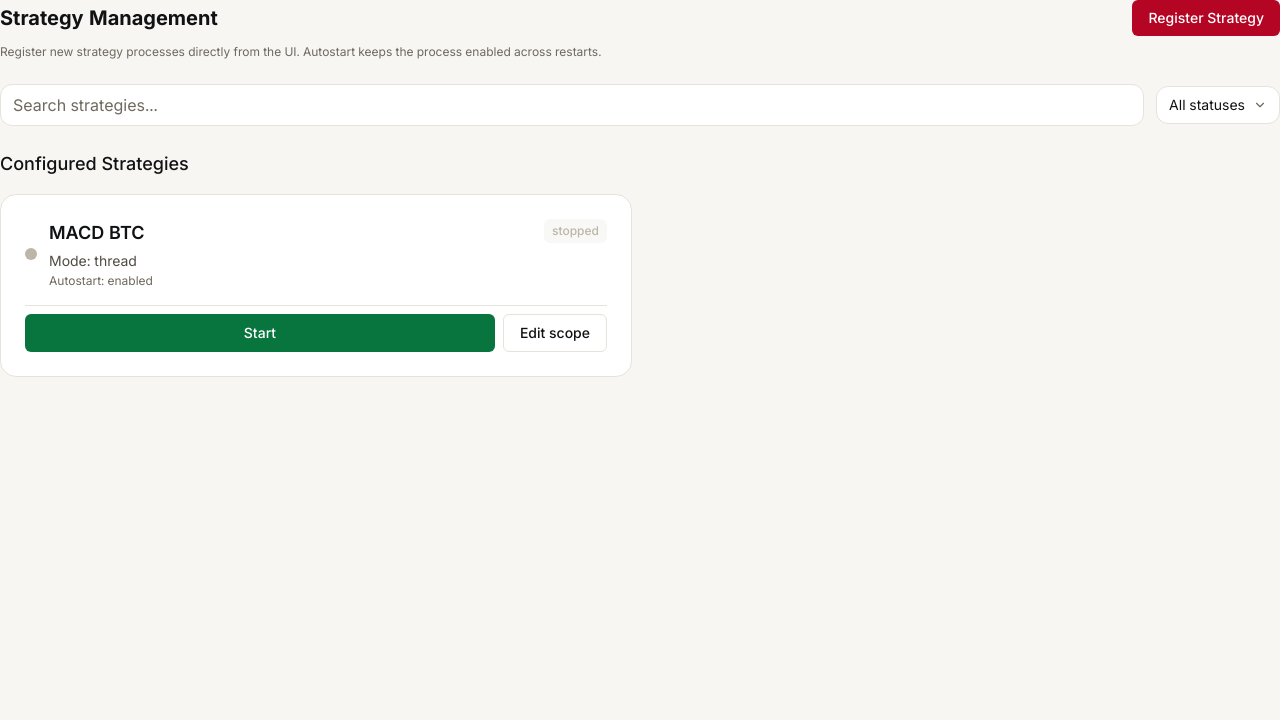
Test case: Strategies › shows Edit scope for a scoped strategy and opens the scope-edit modal
Expected: the text "Edit strategy scope" is not shown
Click the button "Edit scope".
click(555, 333)  # box [503,314,607,352]
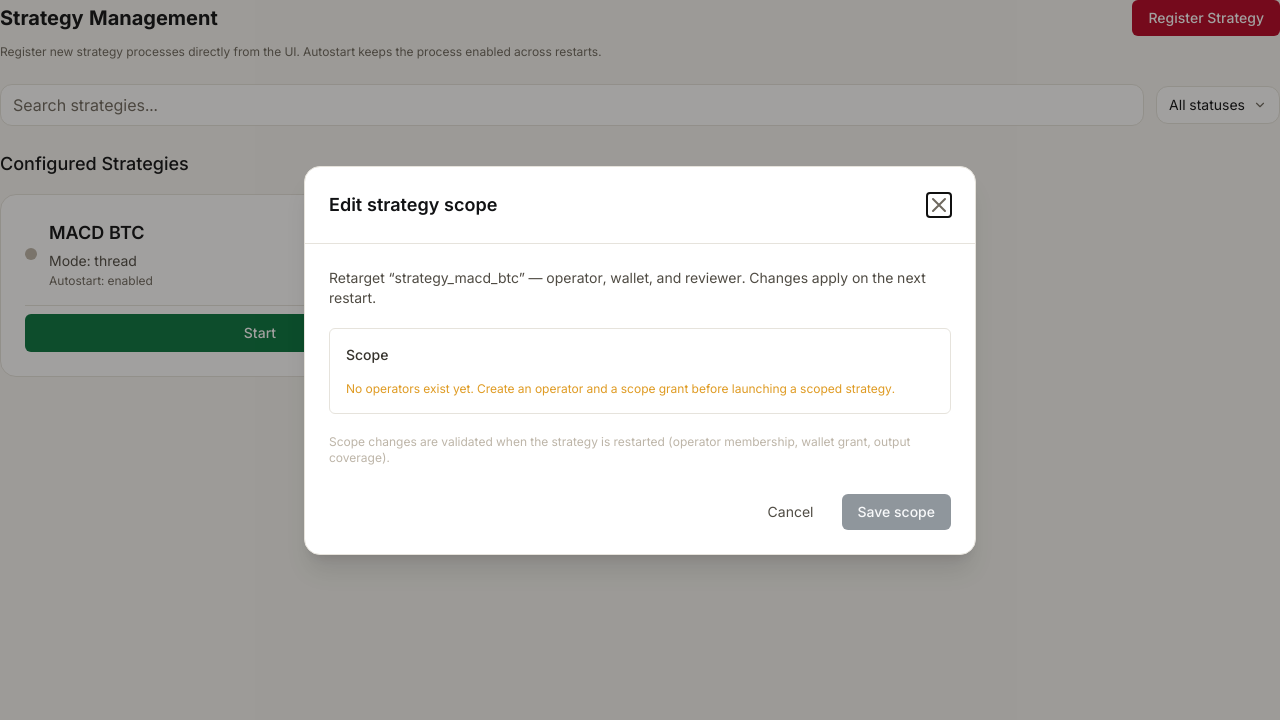
Now the heading "Edit strategy scope" is shown, box [329,190,497,218]
Click the button "Cancel".
click(791, 512)  # box [752,494,830,530]
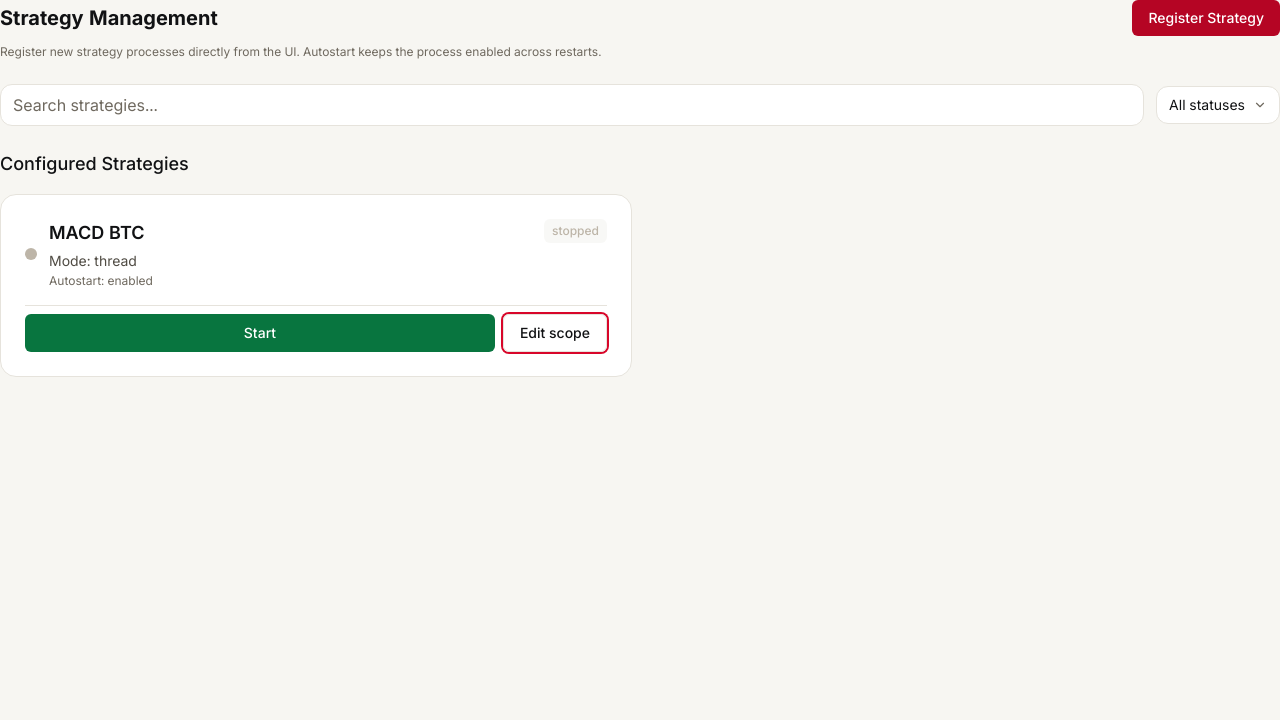
Now the heading "Edit strategy scope" is gone
